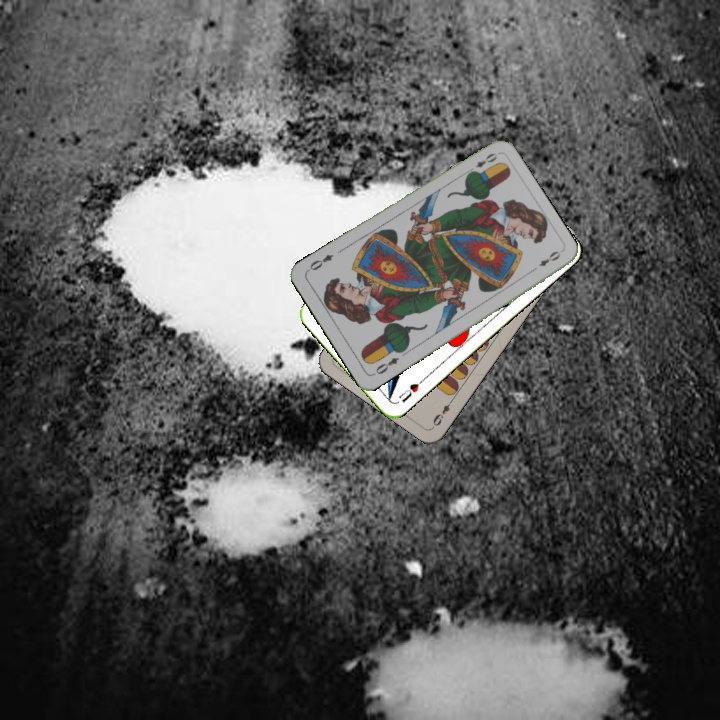E9: (429, 394, 457, 429)
EO: (464, 149, 500, 176), (369, 353, 401, 378)
HU: (394, 375, 427, 405)
